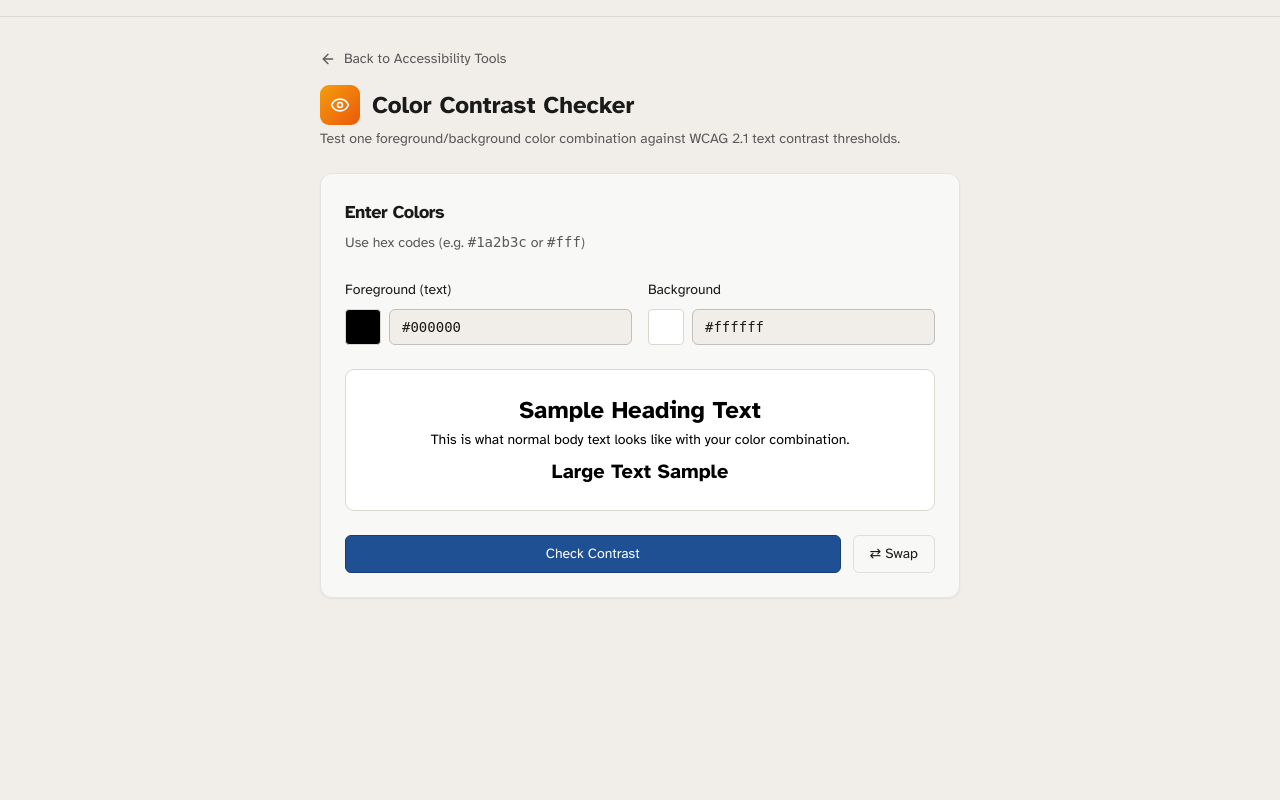
it: limited-scope accessibility check language › keeps the 'Meets AA Text Contrast' result specific to the tested criterion
The image size is (1280, 800).
Click the button with test id "button-check-contrast" at (593, 554), box [345,535,840,573]
(page scrolled)
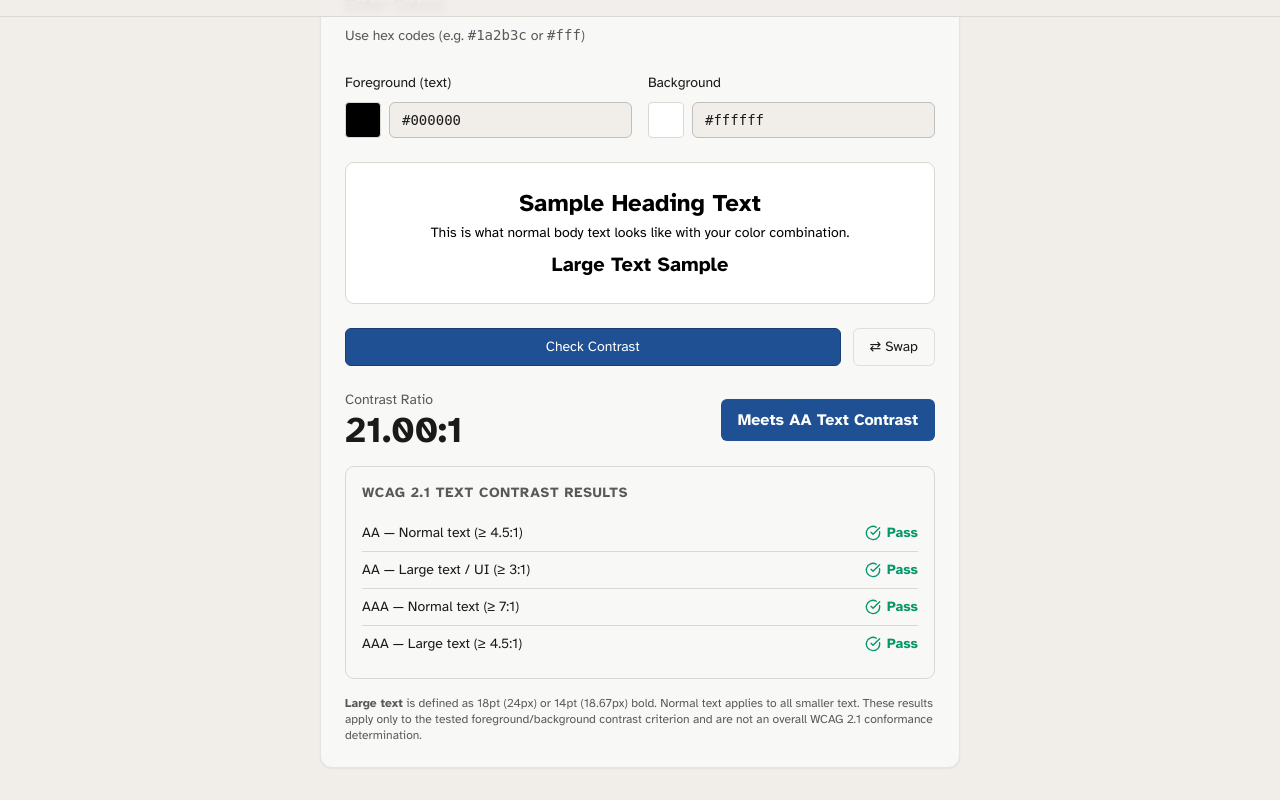
Expected: the element with test id "contrast-result" is shown, [345,390,935,743]
Expected: the text with test id "badge-contrast-rating" reads "Meets AA Text Contrast", [738,410,918,430]
Expected: the heading "WCAG 2.1 Text Contrast Results" is shown, [362,484,628,501]
